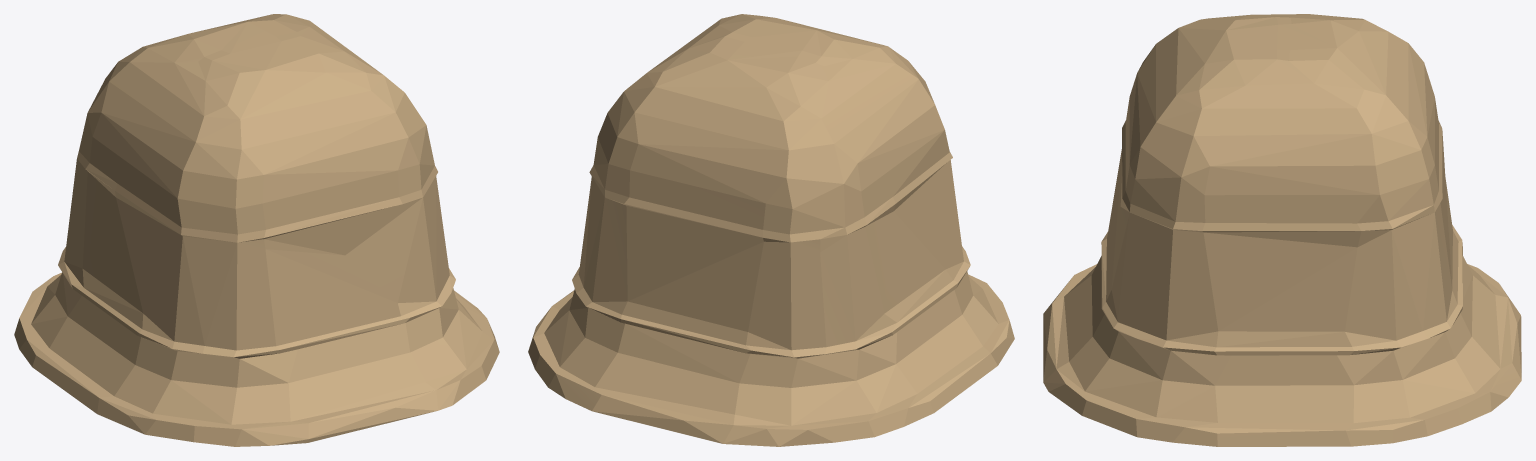
File: BellIntNew.fbx
3 views of the same model, side by side, from view 1: azimuth 30°, elevation 25°; view 2: azimuth 150°, elevation 25°; view 3: azimuth 270°, elevation 25° (orthographic). The views are drawn at different scales.
Visible parts, largest first — view 1: BellInt_NEW; view 2: BellInt_NEW; view 3: BellInt_NEW.
Part boxes in pixels (left/top/right/bottom): BellInt_NEW: left=14, top=14, right=499, bottom=446; BellInt_NEW: left=528, top=14, right=1014, bottom=446; BellInt_NEW: left=1043, top=14, right=1521, bottom=446.
Bounding box in the file's own units: 2122 × 2182 × 1569.
